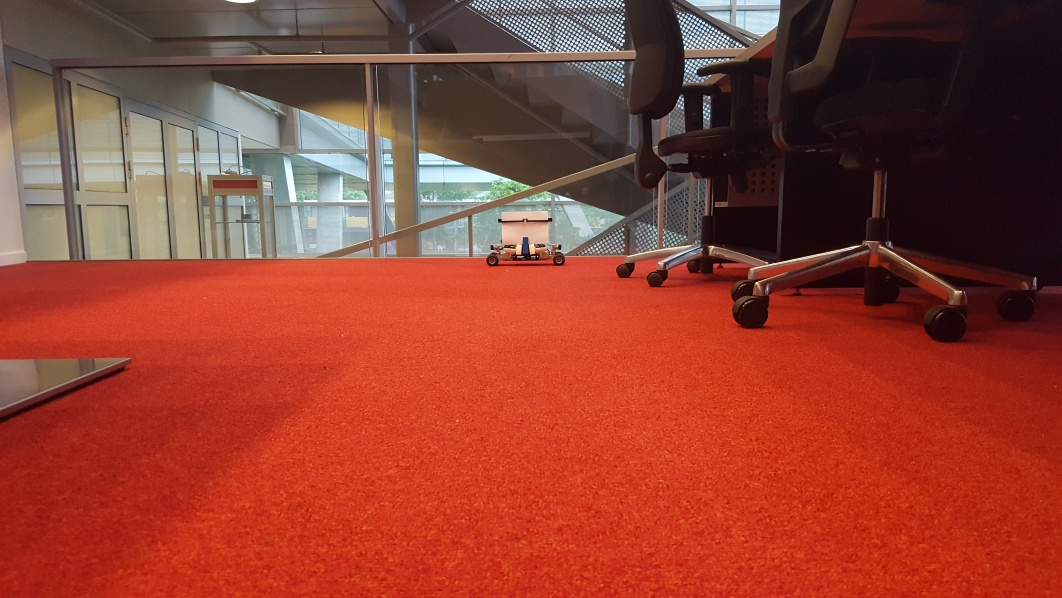car: (484, 206, 567, 268)
